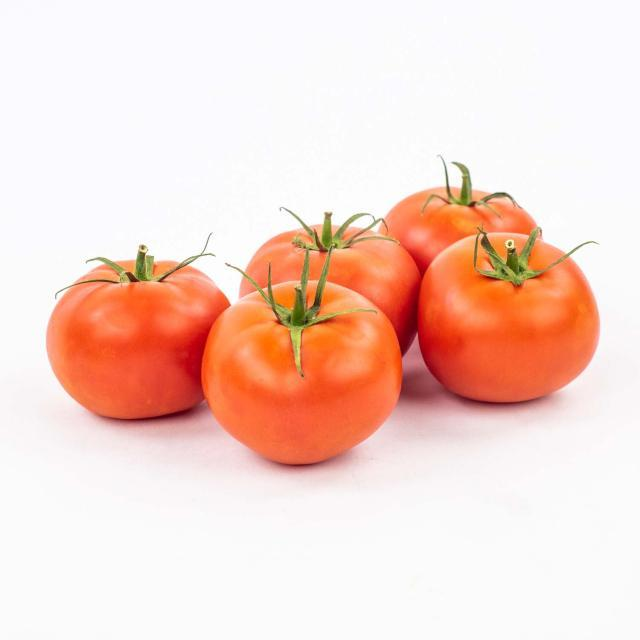kirmizi: (18, 172, 594, 456)
